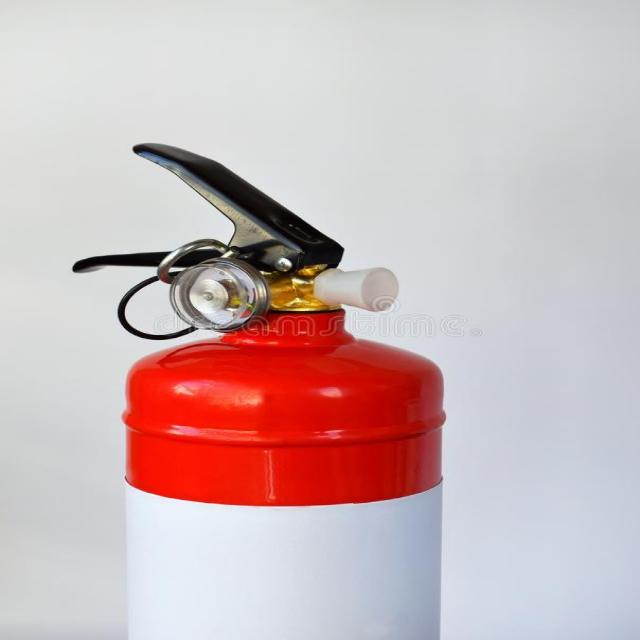fire_extinguisher: (67, 138, 454, 640)
